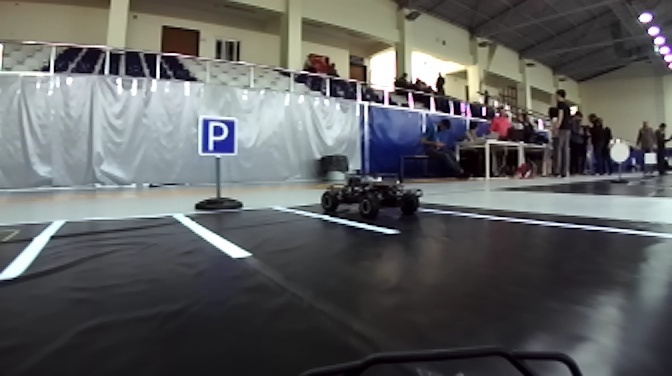park: (197, 114, 242, 160)
